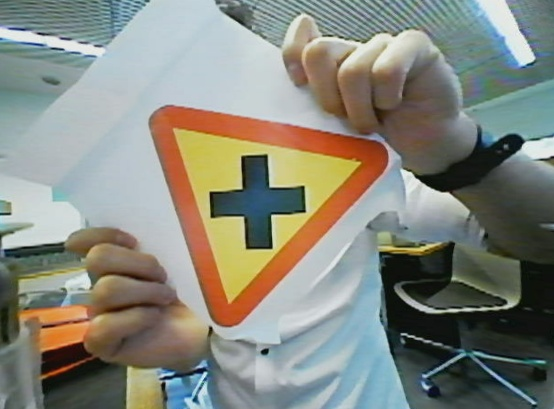junction: (141, 99, 388, 339)
